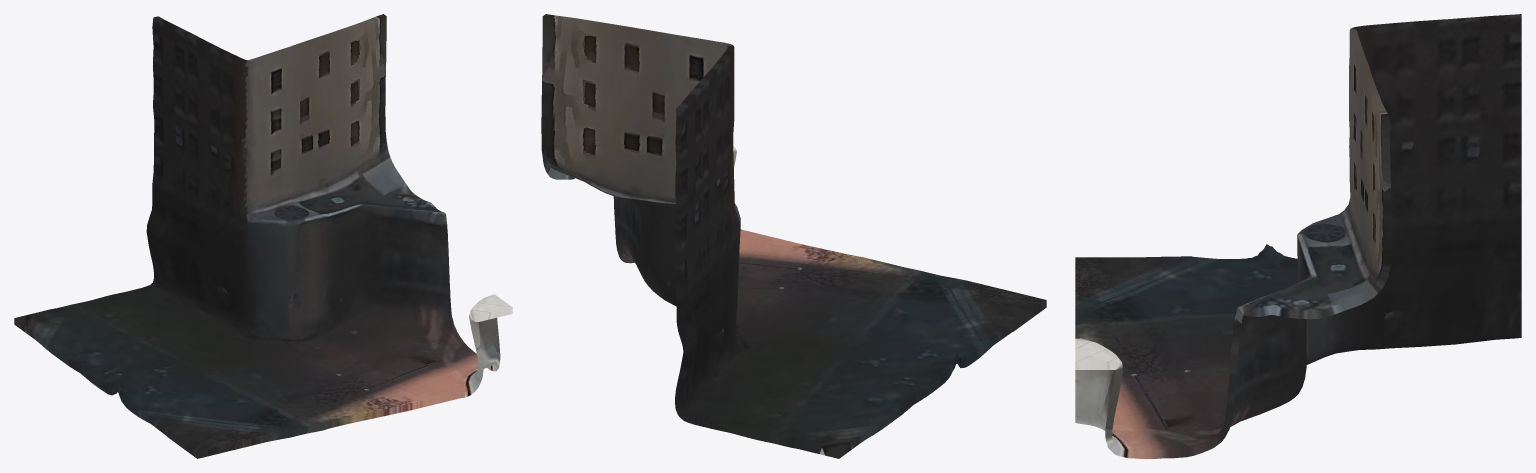
The model's file is z20-167774-405235-h0-yup-uvflip-v3-world.glb.
The picture shows the model from 3 angles, left to right: view 1: azimuth 30°, elevation 25°; view 2: azimuth 150°, elevation 25°; view 3: azimuth 270°, elevation 25°; orthographic projection. The views are drawn at different scales.
Size of the model in its own units: 30.16 by 25.48 by 30.32.
Materials: 1 (1 with a texture image).
